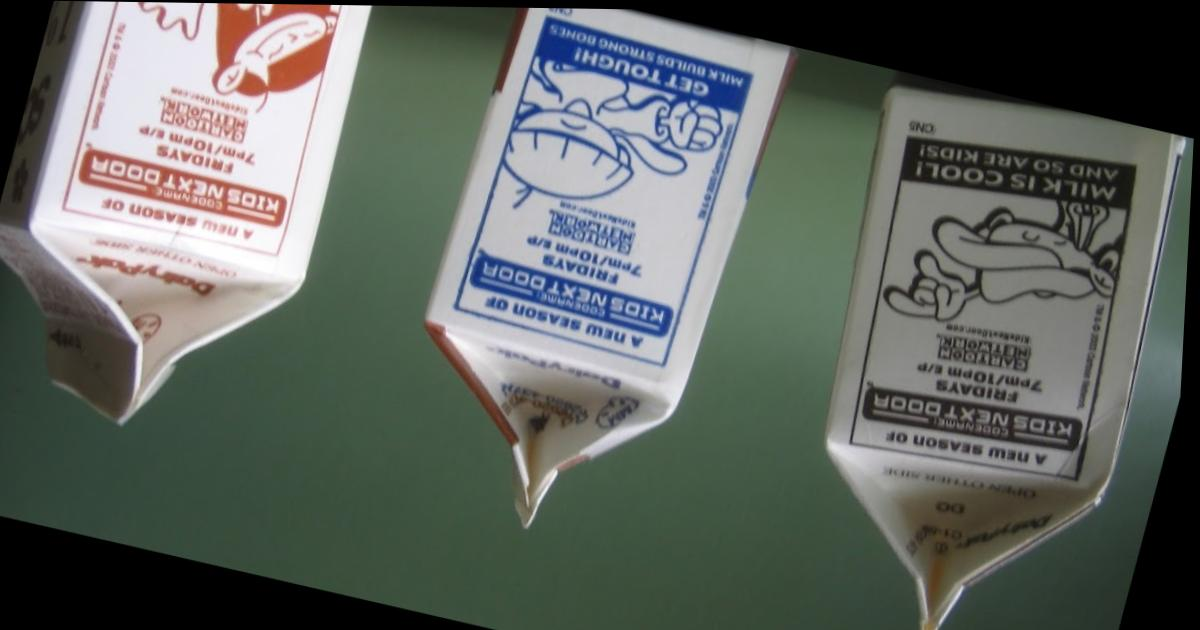cardboard: (827, 87, 1189, 629), (426, 10, 793, 527), (0, 0, 367, 422)
